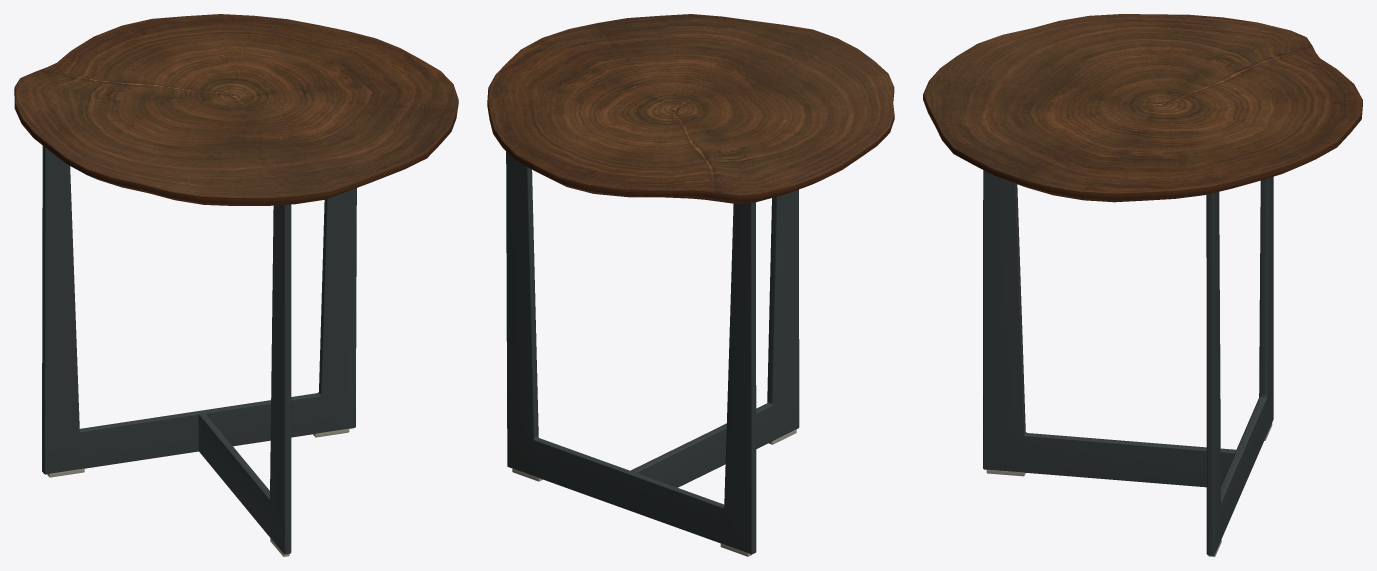
File: B072ZLCB3M.glb
The picture shows the model from 3 angles, left to right: view 1: azimuth 30°, elevation 25°; view 2: azimuth 150°, elevation 25°; view 3: azimuth 270°, elevation 25°; orthographic projection. The views are drawn at different scales.
Visible parts, largest first — view 1: RootNode; view 2: RootNode; view 3: RootNode.
Boxes of the visible parts, x1=… form: RootNode: x1=14, y1=14, x2=458, y2=556; RootNode: x1=487, y1=14, x2=894, y2=556; RootNode: x1=923, y1=14, x2=1362, y2=556.
Bounding box in the file's own units: 0.4767 × 0.4764 × 0.4936.
Materials: 1 (1 with a texture image).
